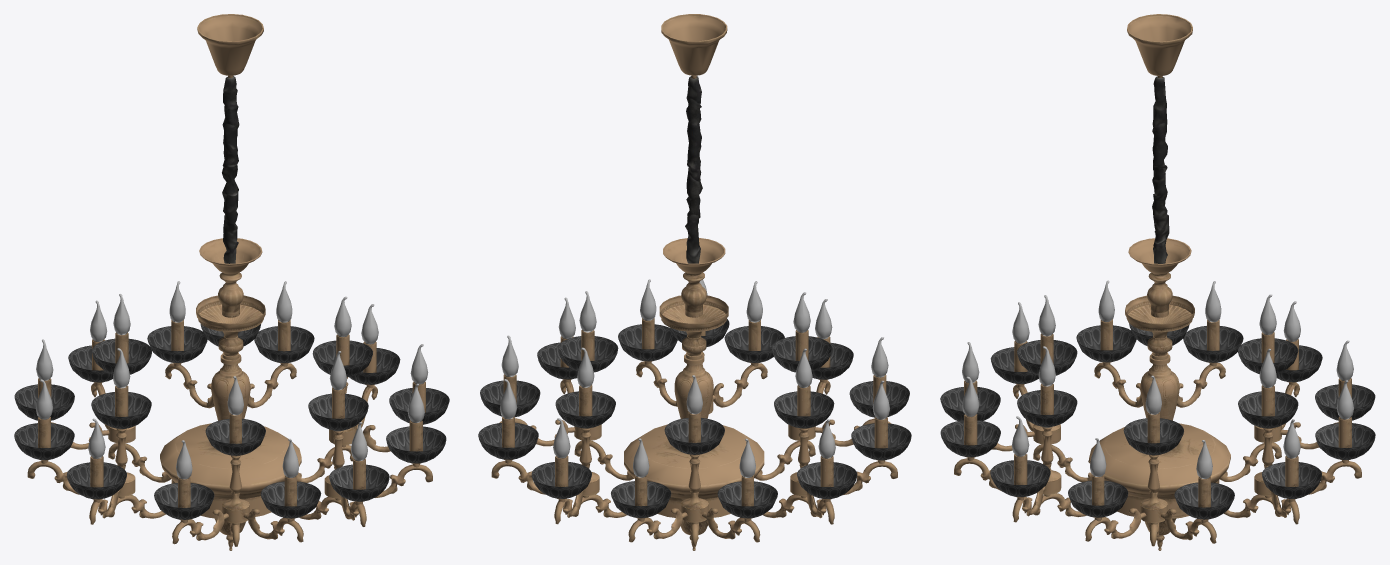
The model's file is chandelier-03.glb.
3 renders of one model, left to right at view 1: azimuth 30°, elevation 25°; view 2: azimuth 150°, elevation 25°; view 3: azimuth 270°, elevation 25°, orthographic.
Parts seen in each view (by area): view 1: Chandelier_03; view 2: Chandelier_03; view 3: Chandelier_03.
Boxes of the visible parts, left/top/right/bottom form: Chandelier_03: left=14, top=14, right=449, bottom=550; Chandelier_03: left=478, top=14, right=911, bottom=550; Chandelier_03: left=940, top=14, right=1375, bottom=550.
Size of the model in its own units: 0.7804 by 1.04 by 0.7855.
Materials: 2 (2 with a texture image).
